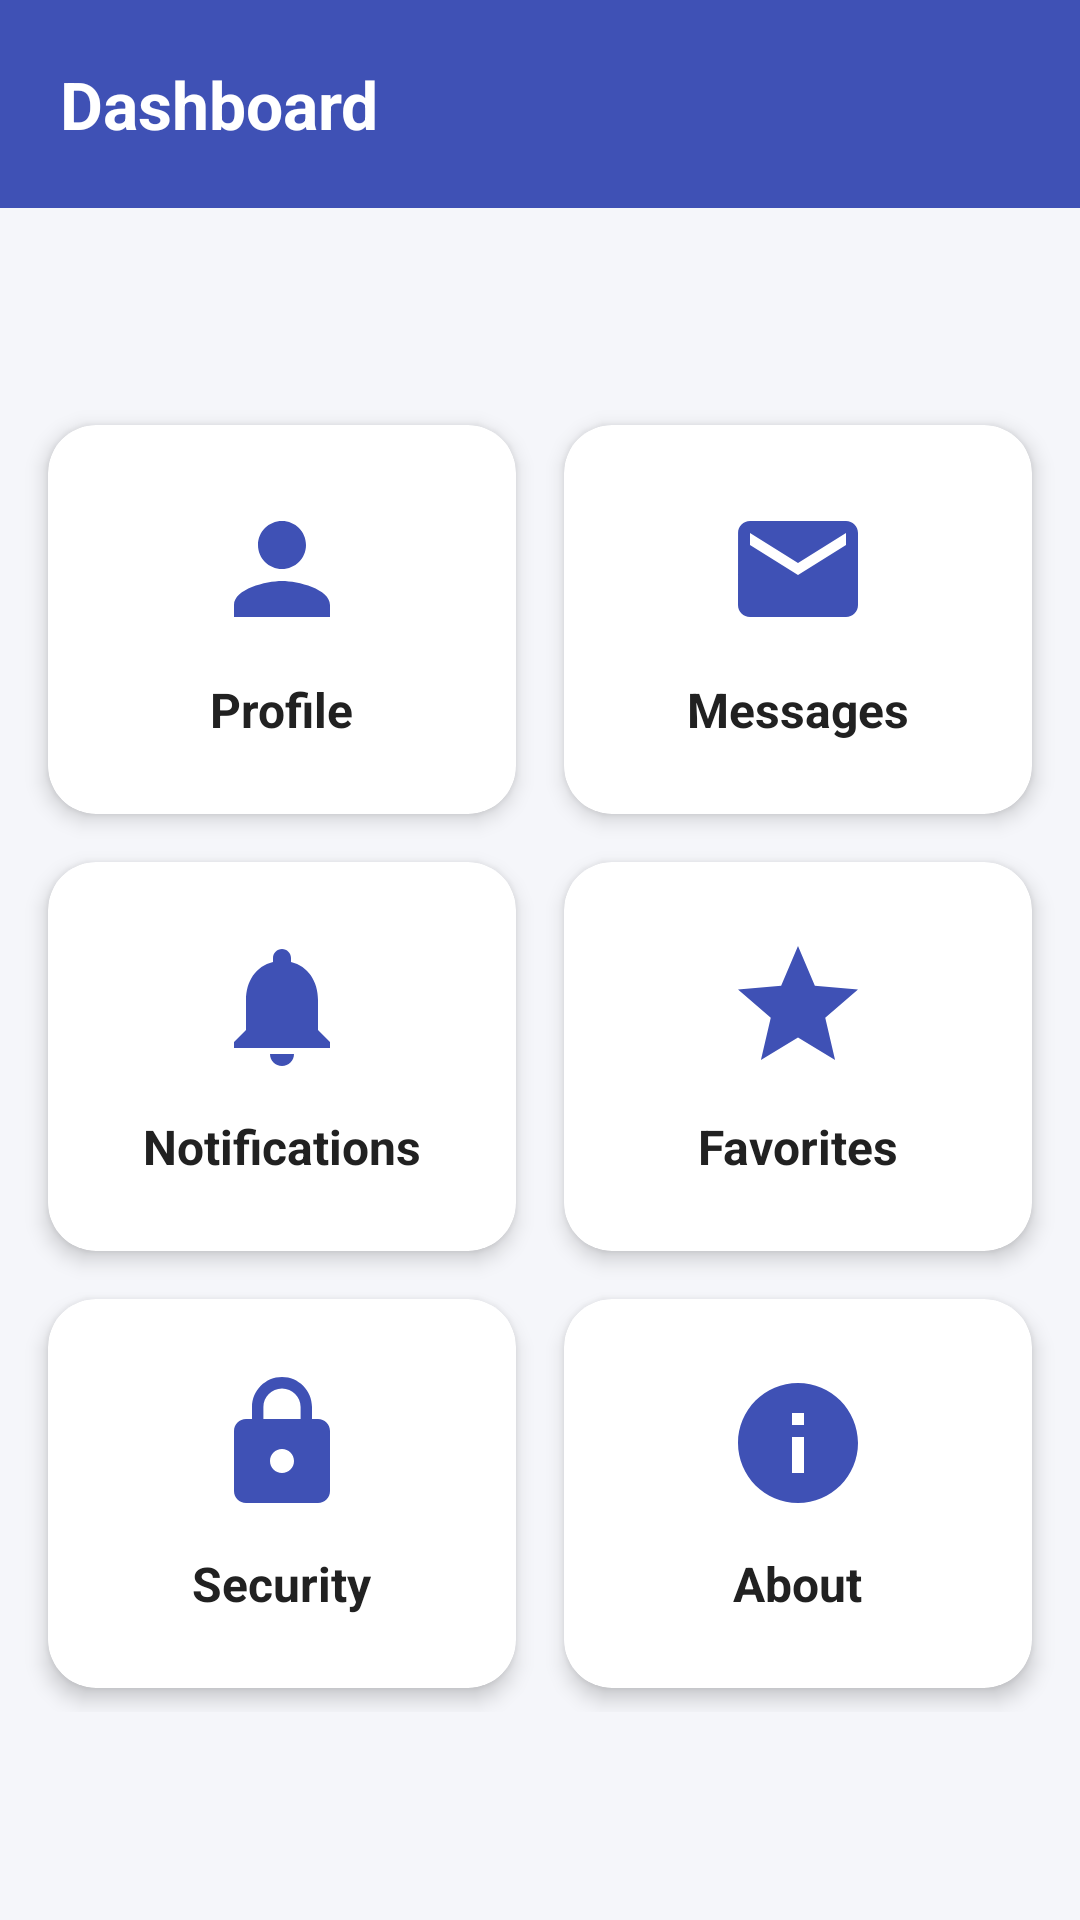

Where icons sit on this 1080w x 1920h app screen, as (x1, y1, x2, y2):
email: (738, 521, 858, 617)
info: (738, 1383, 858, 1503)
lock: (234, 1377, 330, 1503)
person: (234, 521, 330, 617)
star: (738, 946, 858, 1060)
